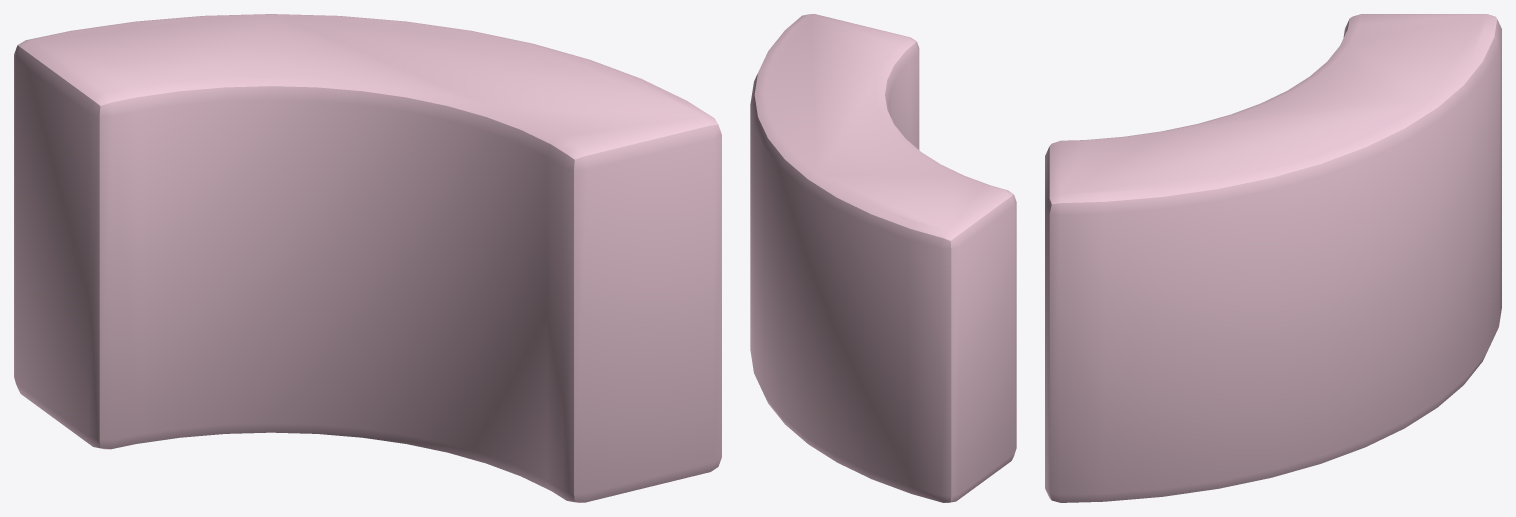
Rendered from waiting-corner-inner.fbx.
3 views of the same model, side by side, from view 1: azimuth 30°, elevation 25°; view 2: azimuth 150°, elevation 25°; view 3: azimuth 270°, elevation 25° (orthographic). The views are drawn at different scales.
Visible parts, largest first — view 1: Rim; view 2: Rim; view 3: Rim.
Boxes of the visible parts, x1,y1,x2,y2 form: Rim: [14, 14, 721, 502]; Rim: [750, 14, 1016, 502]; Rim: [1045, 14, 1501, 502].
Bounding box in the file's own units: 0.3492 × 0.26 × 0.3492.
